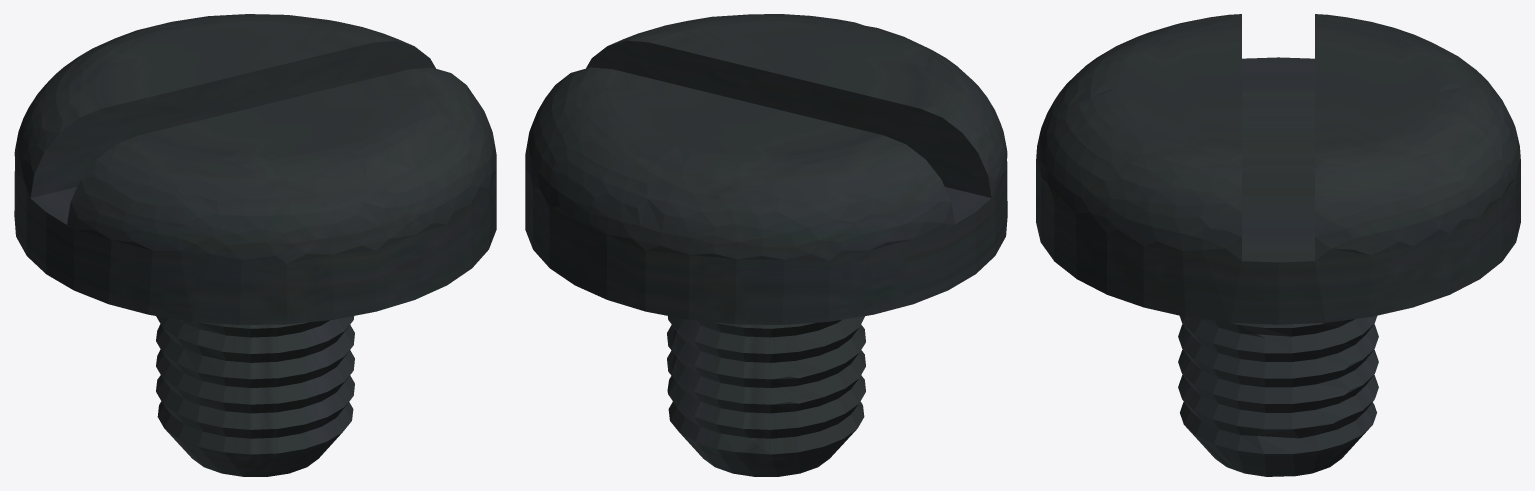
File: Screw.dae
The picture shows the model from 3 angles, left to right: view 1: azimuth 30°, elevation 25°; view 2: azimuth 150°, elevation 25°; view 3: azimuth 270°, elevation 25°; orthographic projection.
Parts seen in each view (by area): view 1: Screw; view 2: Screw; view 3: Screw.
Part boxes in pixels (box(x1,y1,x2,y2)): Screw: box(14, 14, 496, 476); Screw: box(525, 14, 1007, 476); Screw: box(1036, 14, 1520, 476).
Bounding box in the file's own units: 0.00904 × 0.00904 × 0.00743.
1 material, 1 textured.
